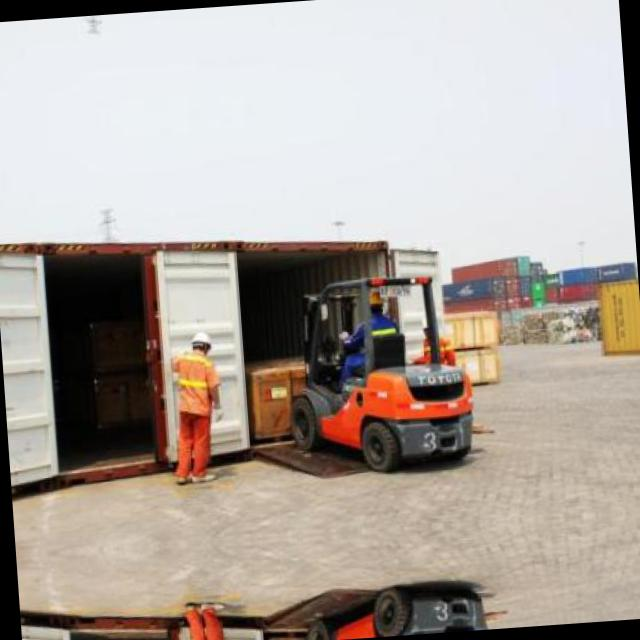helmet: (185, 326, 218, 358), (356, 284, 386, 314), (416, 308, 444, 338)
